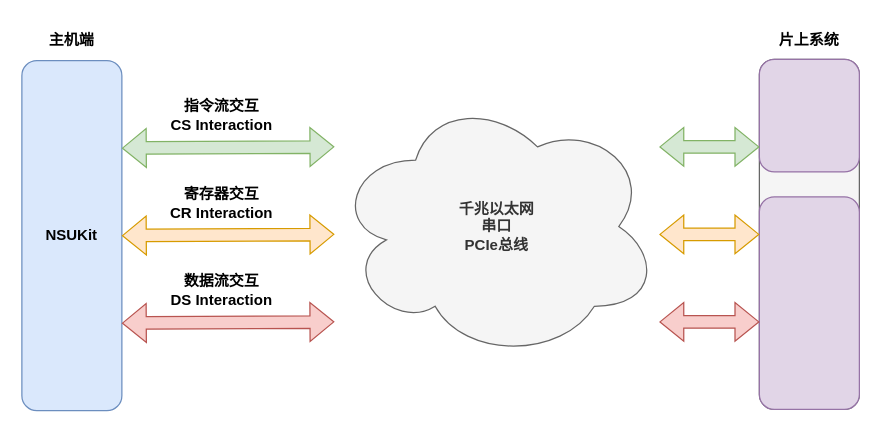
The diagram is 881 pixels wide and 433 high, and some of its shapes have lost their labels. The shapes that lost their labels are listed below. From the top down, each one's centre as x and y in pixels, then its label:
point 808,115: 处理器
point 808,302: 逻辑
